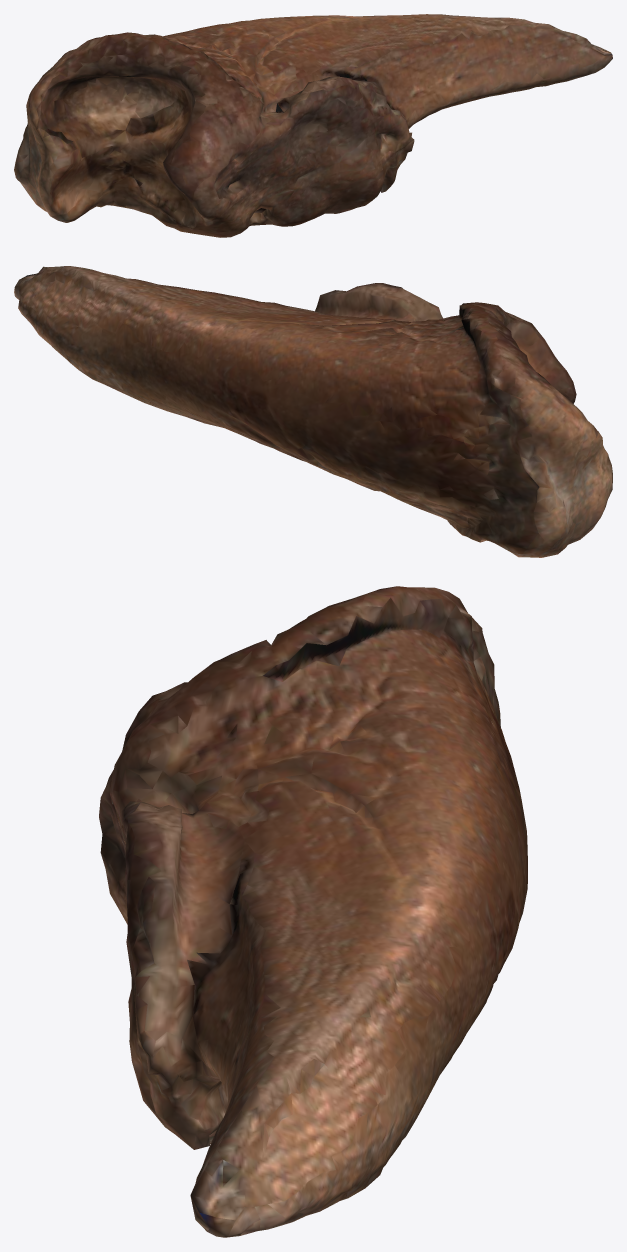
Rendered from modelo-6.glb.
The picture shows the model from 3 angles, top to bottom: view 1: azimuth 30°, elevation 25°; view 2: azimuth 150°, elevation 25°; view 3: azimuth 270°, elevation 25°; orthographic projection. The views are drawn at different scales.
Size of the model in its own units: 1.05 by 0.3647 by 0.3642.
1 material, 1 textured.
